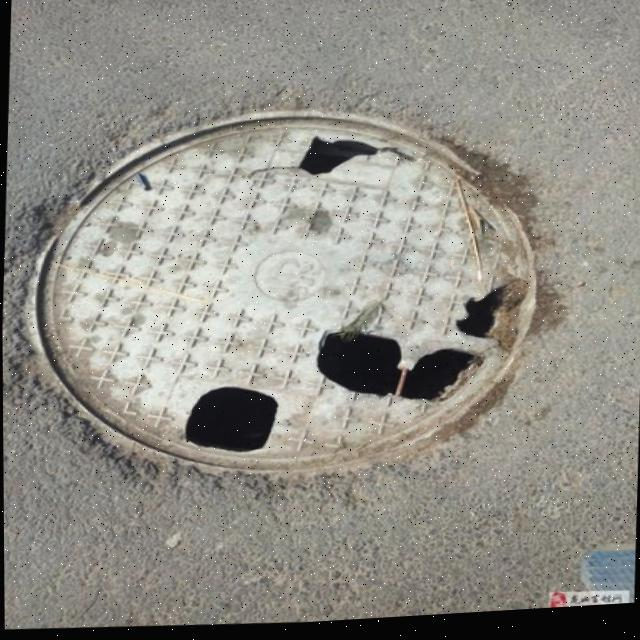manhole: (11, 84, 560, 507)
